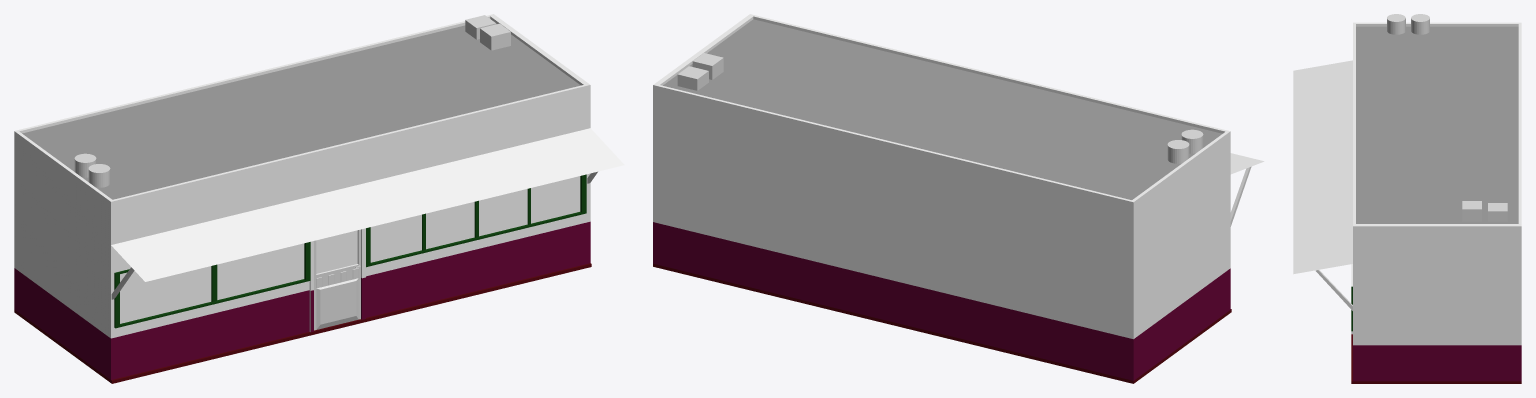
Rendered from tescos_outside.glb.
The picture shows the model from 3 angles, left to right: view 1: azimuth 30°, elevation 25°; view 2: azimuth 150°, elevation 25°; view 3: azimuth 270°, elevation 25°; orthographic projection. The views are drawn at different scales.
Parts seen in each view (by area): view 1: Cube, Cube.003; view 2: Cube, Cube.004, Cube.003; view 3: Cube, Cube.003, Cube.004, Cylinder, Cylinder.001, Cube.001.
Boxes of the visible parts, x1,y1,x2,y2 form: Cube: (14, 14, 624, 383); Cube.003: (480, 23, 510, 50); Cube: (653, 14, 1264, 383); Cube.004: (677, 66, 708, 90); Cube.003: (692, 53, 723, 79); Cube: (1293, 22, 1521, 383); Cube.003: (1462, 201, 1481, 221); Cube.004: (1488, 203, 1507, 221); Cylinder: (1411, 14, 1429, 34); Cylinder.001: (1387, 14, 1405, 34); Cube.001: (1315, 270, 1352, 310).
Bounding box in the file's own units: 5.72 × 2.22 × 2.71.
